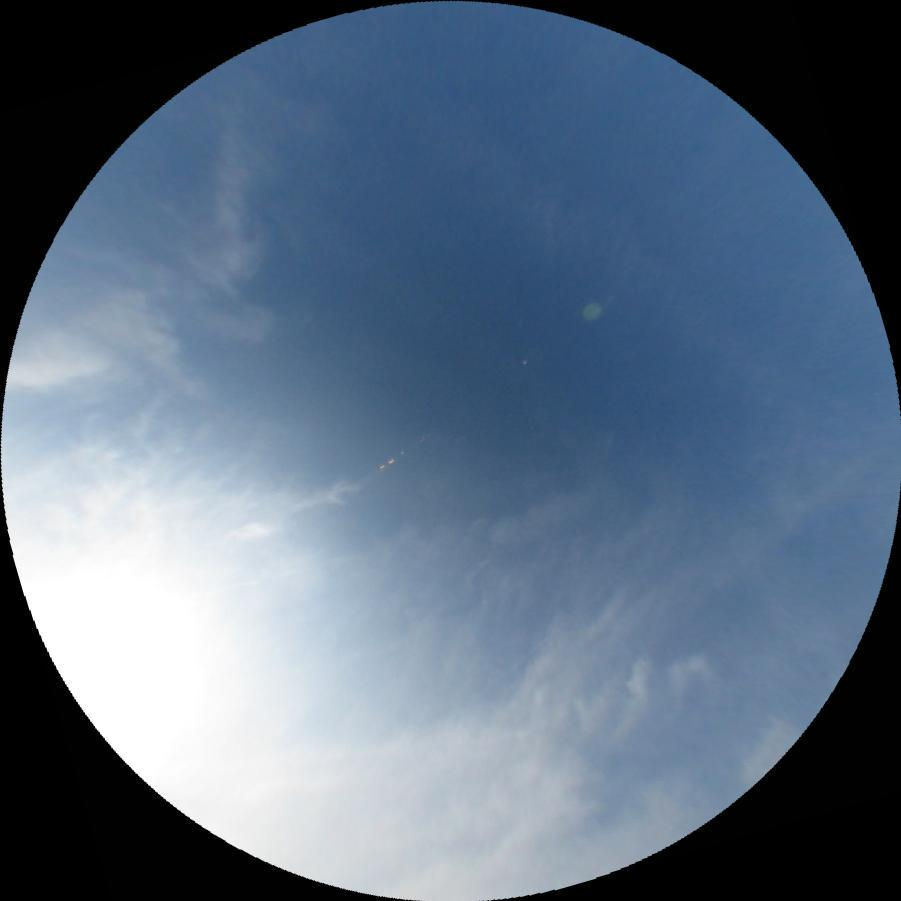contrail young: (444, 566, 630, 721)
parasite: (208, 562, 317, 593)
sun: (18, 517, 275, 801)
